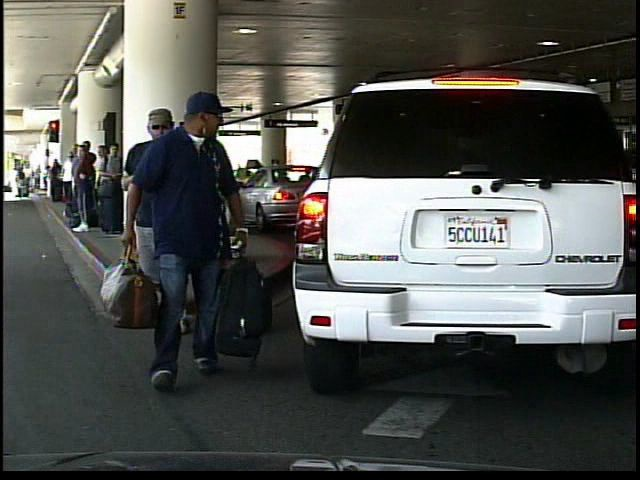person: (142, 84, 278, 396), (115, 101, 194, 325), (168, 132, 223, 262)
